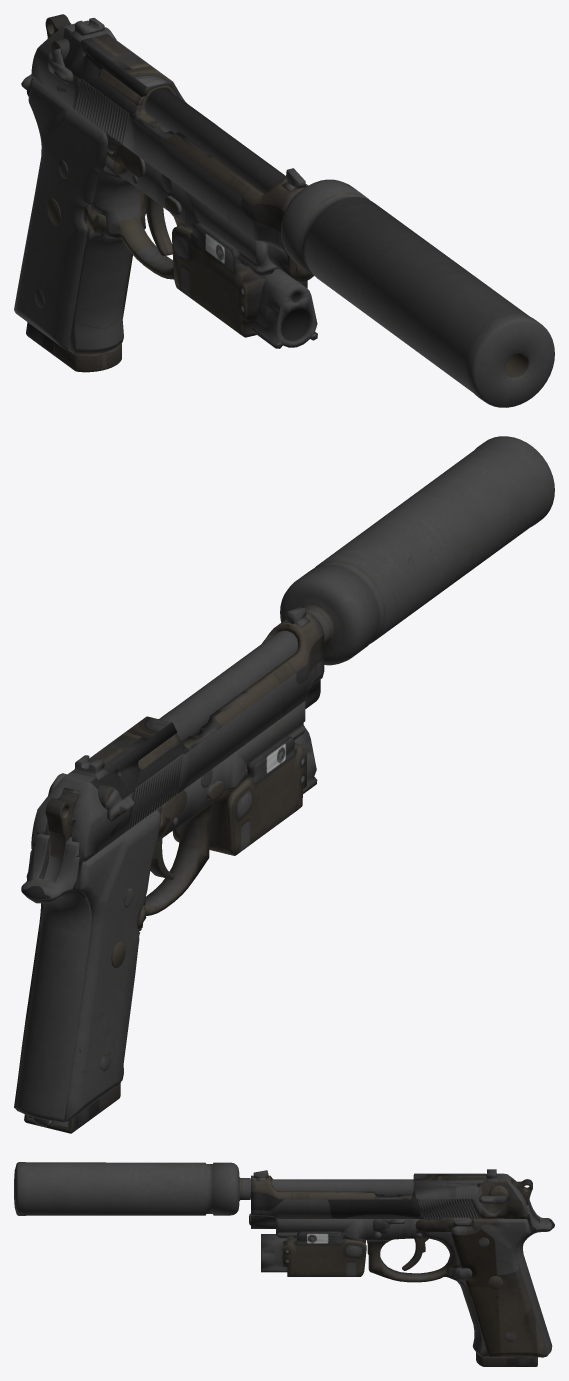
File: Weapons_M9A3_LOD0.glb
The picture shows the model from 3 angles, top to bottom: view 1: azimuth 30°, elevation 25°; view 2: azimuth 150°, elevation 25°; view 3: azimuth 270°, elevation 25°; orthographic projection. The views are drawn at different scales.
Parts seen in each view (by area): view 1: Hoodie; view 2: Hoodie; view 3: Hoodie.
Boxes of the visible parts, x1,y1,x2,y2 form: Hoodie: (14,14,554,407); Hoodie: (14,436,554,1133); Hoodie: (14,1162,554,1366).
Size of the model in its own units: 0.0389 by 0.1559 by 0.3896.
Materials: 1 (1 with a texture image).
